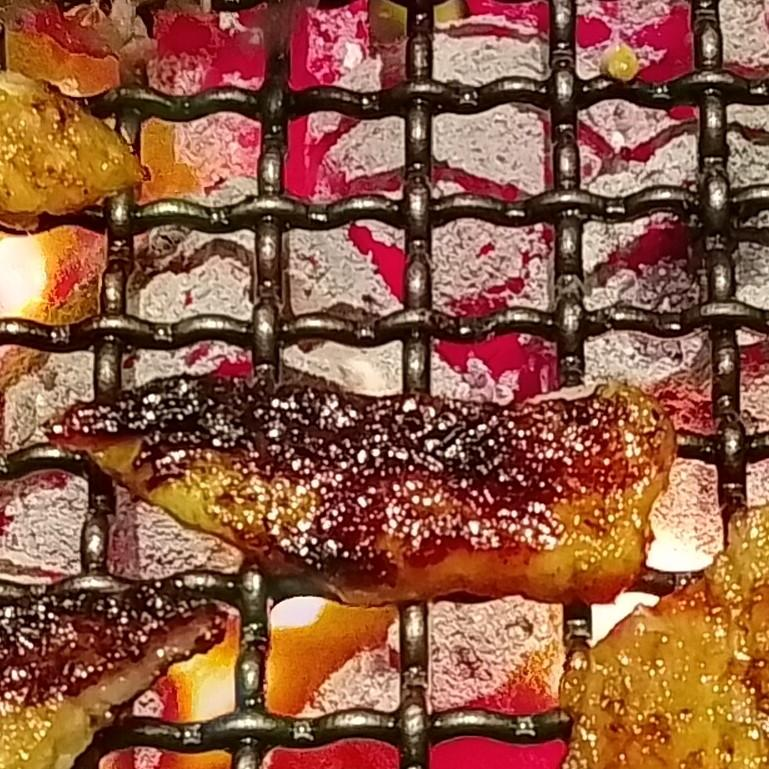Overcooked: (45, 378, 676, 606), (0, 584, 239, 768)
Well-Cooked: (560, 505, 768, 768), (0, 73, 148, 234)
